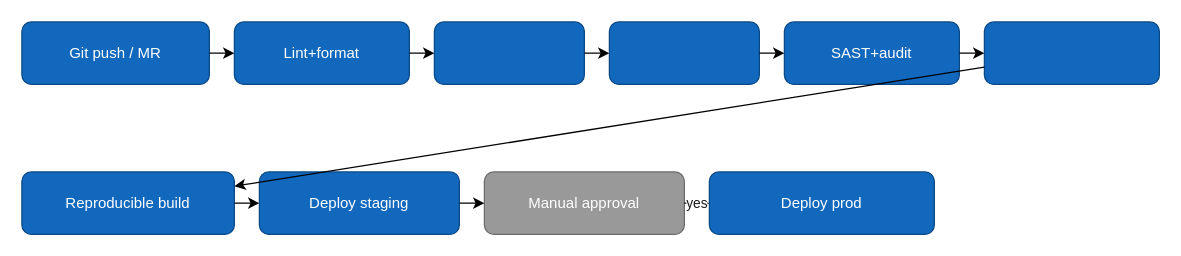
Some shapes in this 1181 by 256 pixel diagram are drawn without their labels. Here are the shapes that lost their labels. From the top down, the box of each, then its label:
(433, 21, 584, 84): Tests
(608, 21, 759, 84): SBOM
(983, 21, 1159, 84): Sign (ML-DSA)
